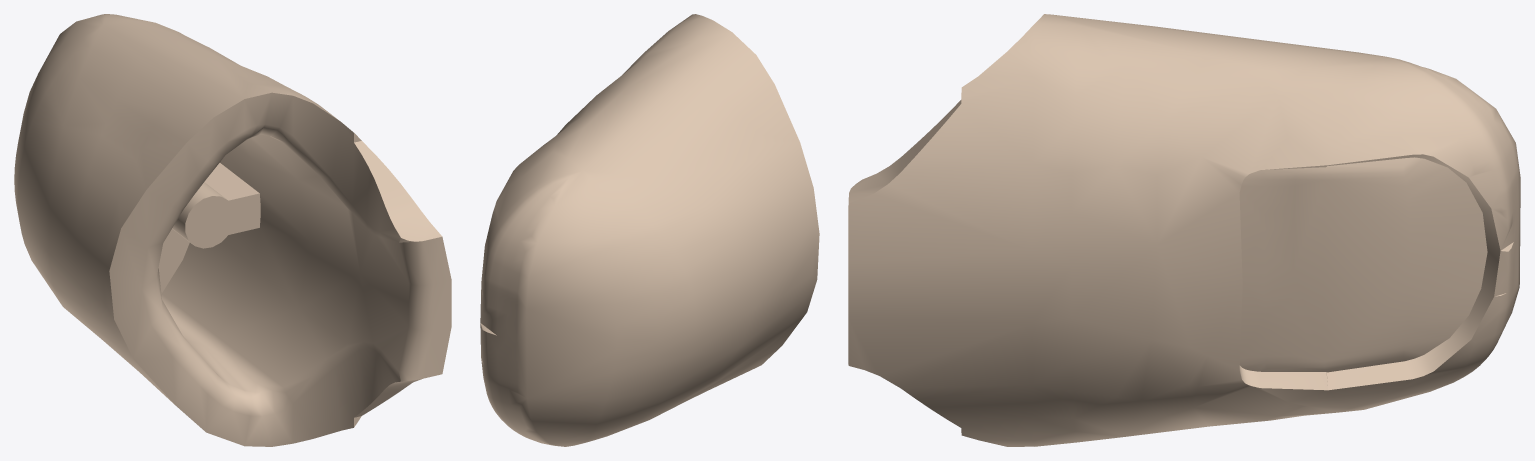
Rendered from l_hand_D_I_1.obj.
3 renders of one model, left to right at view 1: azimuth 30°, elevation 25°; view 2: azimuth 150°, elevation 25°; view 3: azimuth 270°, elevation 25°, orthographic. The views are drawn at different scales.
Bounding box in the file's own units: 14.61 × 20.6 × 30.06.
